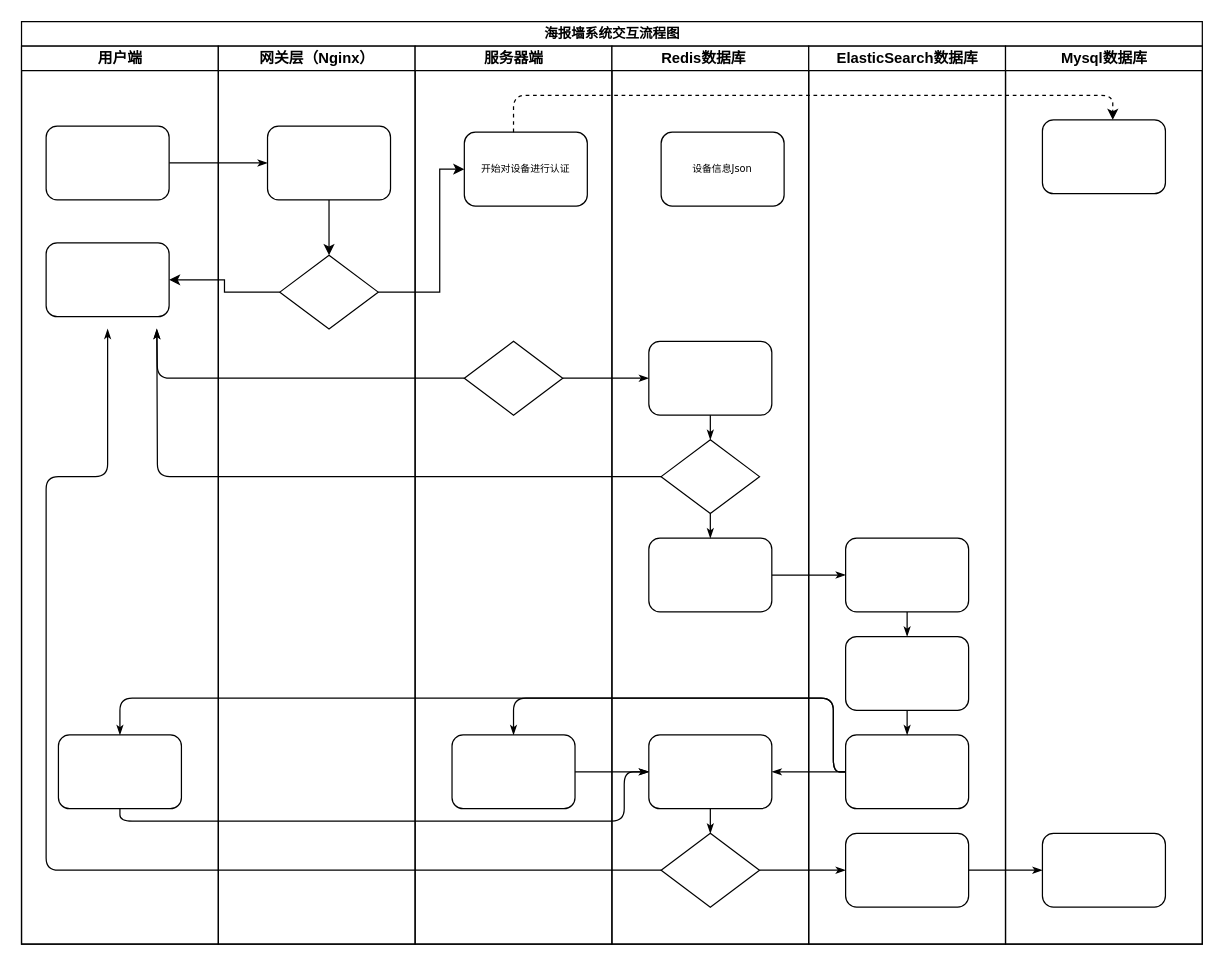
The diagram is 1224 pixels wide and 966 high, and some of its shapes have lost their labels. Here are the shapes that lost their labels. From the top down, the centre of each, then its label:
At (107,162): "点击“自动刮削”按钮".
At (328,162): "监听80端口，收到查询请求".
At (1103,156): "设备信息表".
At (107,279): "404，接口错误".
At (328,291): "检验接口路径".
